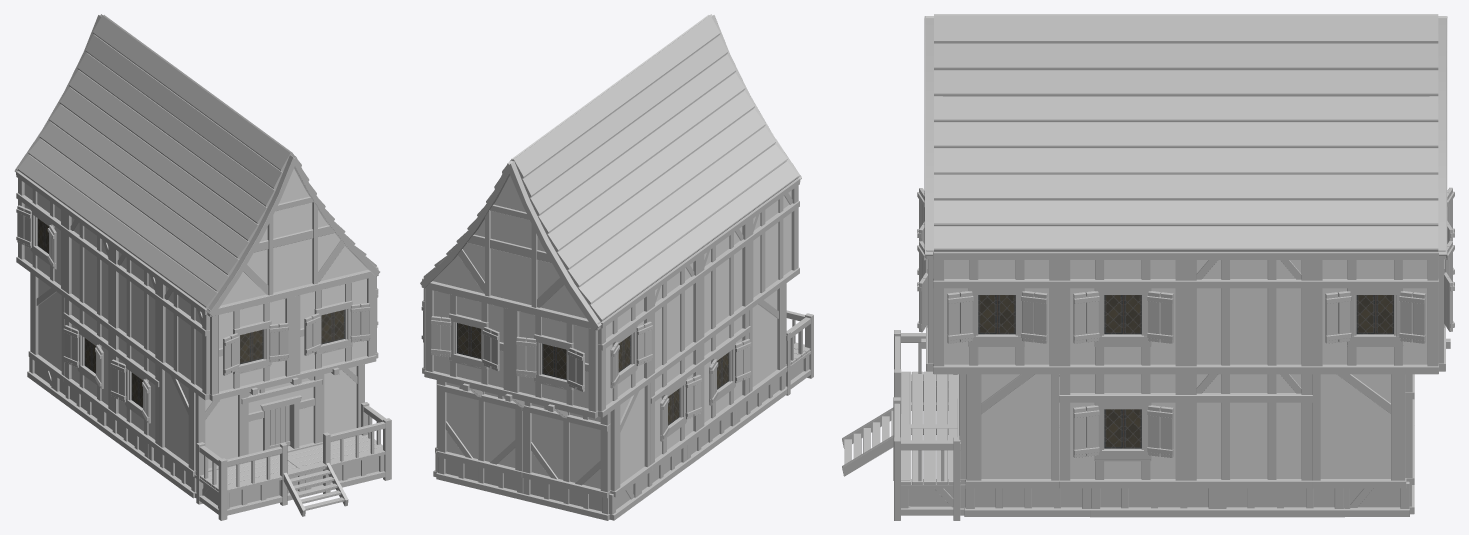
File: City_House_1A2.fbx
The picture shows the model from 3 angles, left to right: view 1: azimuth 30°, elevation 25°; view 2: azimuth 150°, elevation 25°; view 3: azimuth 270°, elevation 25°; orthographic projection. The views are drawn at different scales.
Parts seen in each view (by area): view 1: City_House_1A2, Door.008; view 2: City_House_1A2; view 3: City_House_1A2.
Part boxes in pixels (box(x1,y1,x2,y2)): City_House_1A2: box(14, 14, 391, 520); Door.008: box(269, 405, 290, 448); City_House_1A2: box(420, 14, 813, 520); City_House_1A2: box(842, 14, 1454, 520).
Bounding box in the file's own units: 906 × 1578 × 1944.
